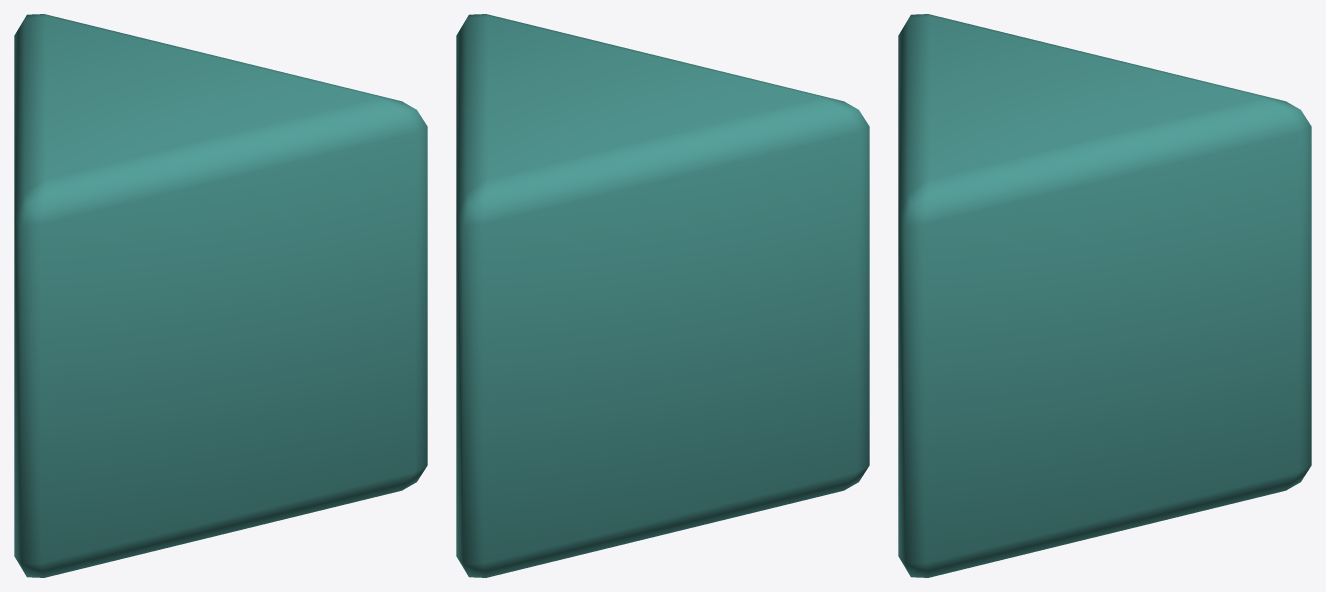
File: token_prism.glb
The picture shows the model from 3 angles, left to right: view 1: azimuth 30°, elevation 25°; view 2: azimuth 150°, elevation 25°; view 3: azimuth 270°, elevation 25°; orthographic projection.
Visible parts, largest first — view 1: Token_Body.002; view 2: Token_Body.002; view 3: Token_Body.002.
Part boxes in pixels (x1,y1,x2,y2): Token_Body.002: (14, 14, 427, 577); Token_Body.002: (456, 14, 869, 577); Token_Body.002: (898, 14, 1311, 577).
Size of the model in its own units: 0.3214 by 0.3 by 0.2833.
